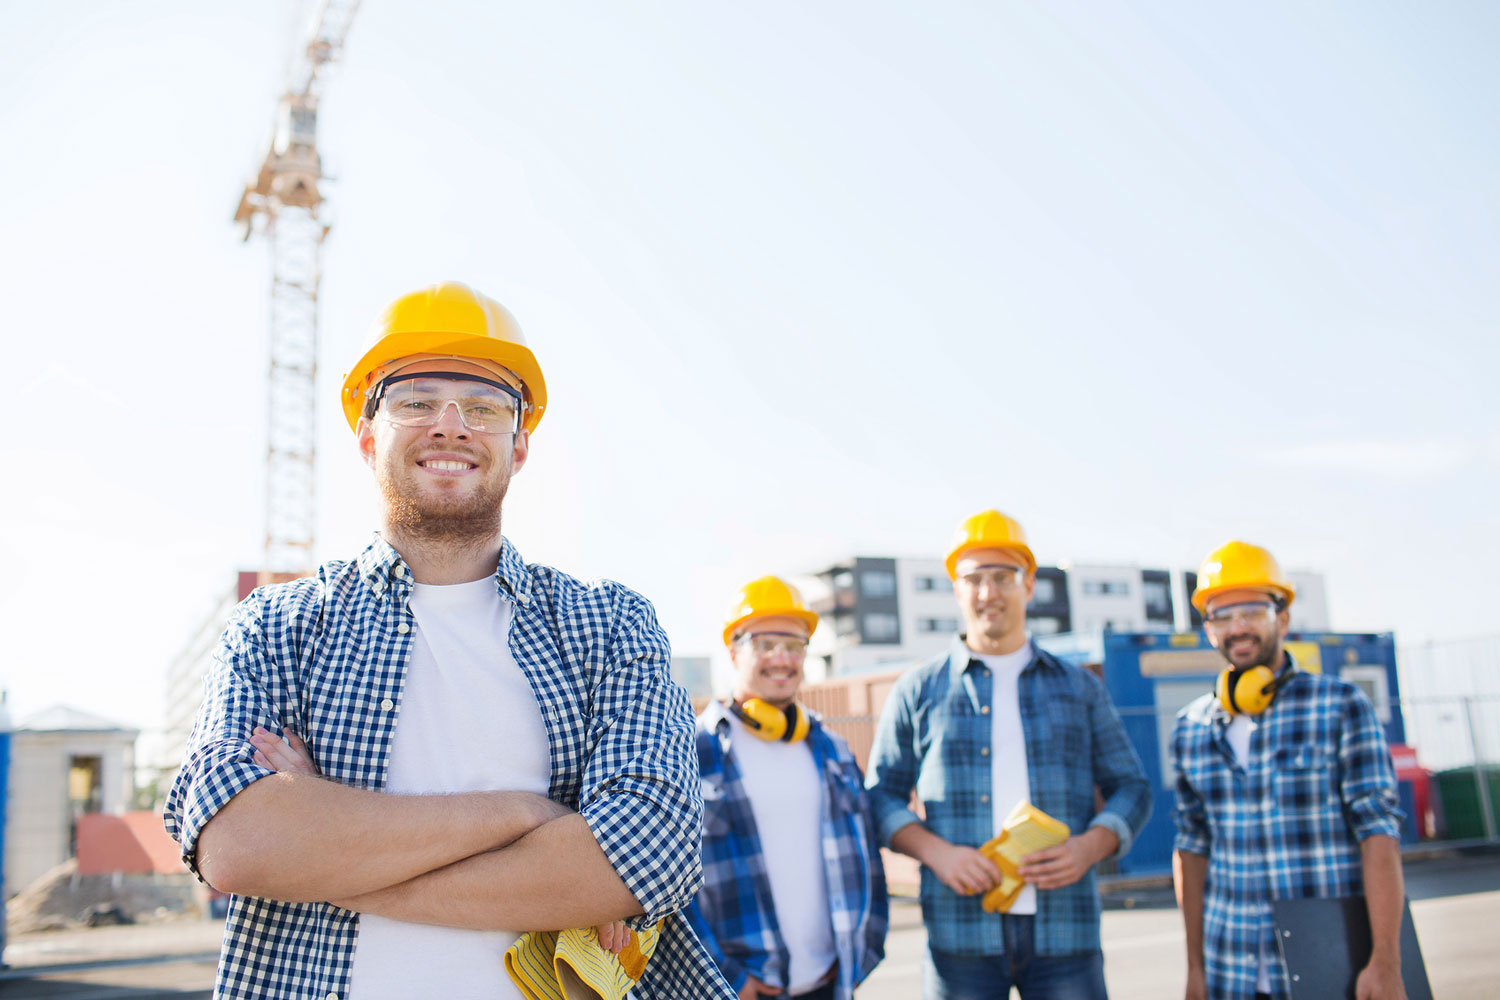hard hat: (337, 278, 547, 435), (718, 575, 820, 640), (937, 508, 1040, 573), (1187, 542, 1294, 605)
